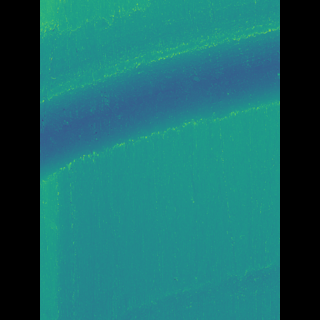Loch: (69, 0, 249, 184)
